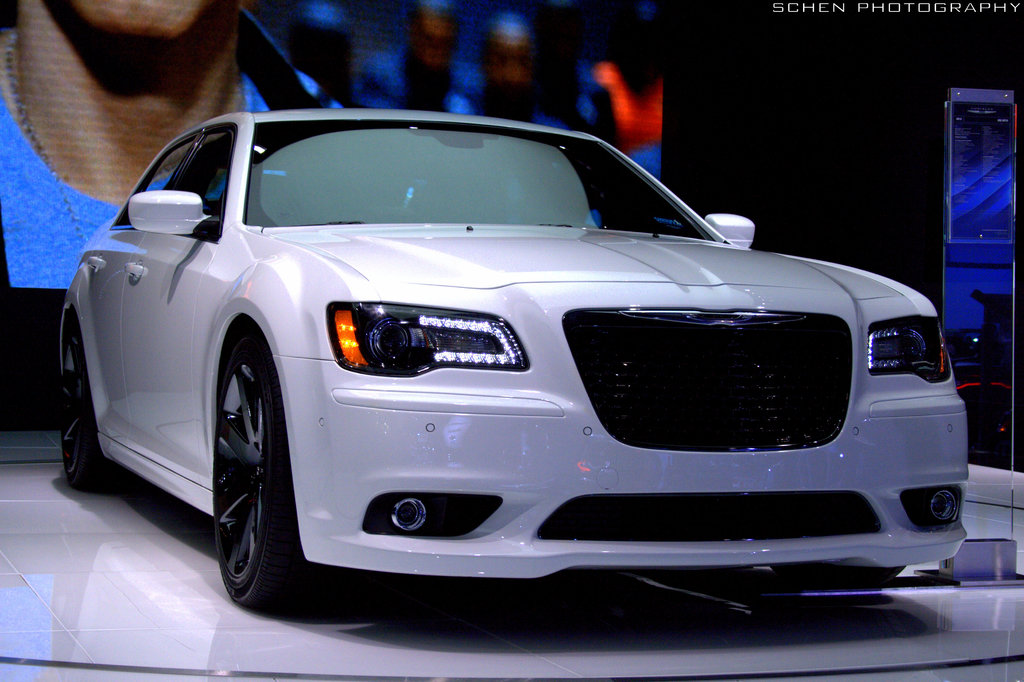Car: (57, 107, 968, 609)
